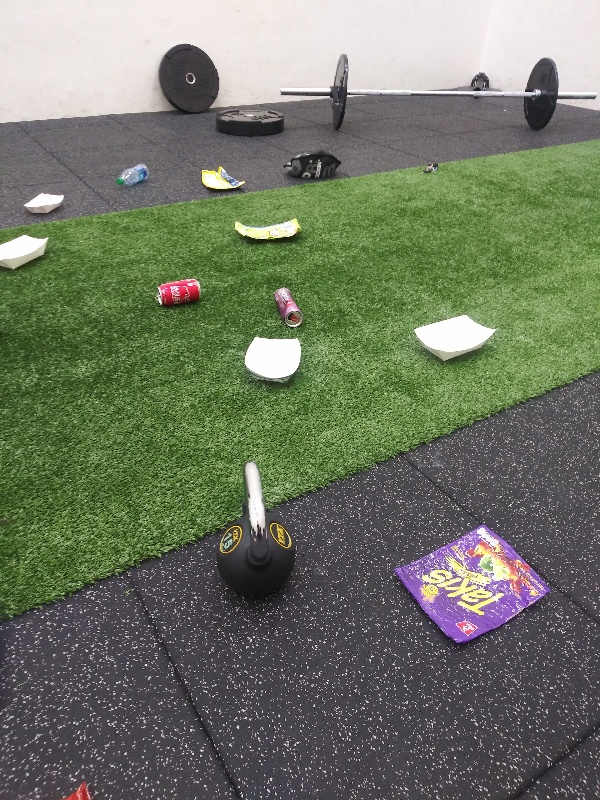bag: (384, 522, 555, 653), (230, 216, 305, 245), (193, 165, 250, 194), (57, 779, 105, 800)
bottle: (113, 163, 154, 189)
can: (153, 274, 205, 311), (272, 283, 305, 328)
plate: (408, 313, 499, 366), (235, 333, 304, 386), (1, 230, 50, 275), (21, 189, 68, 216)
